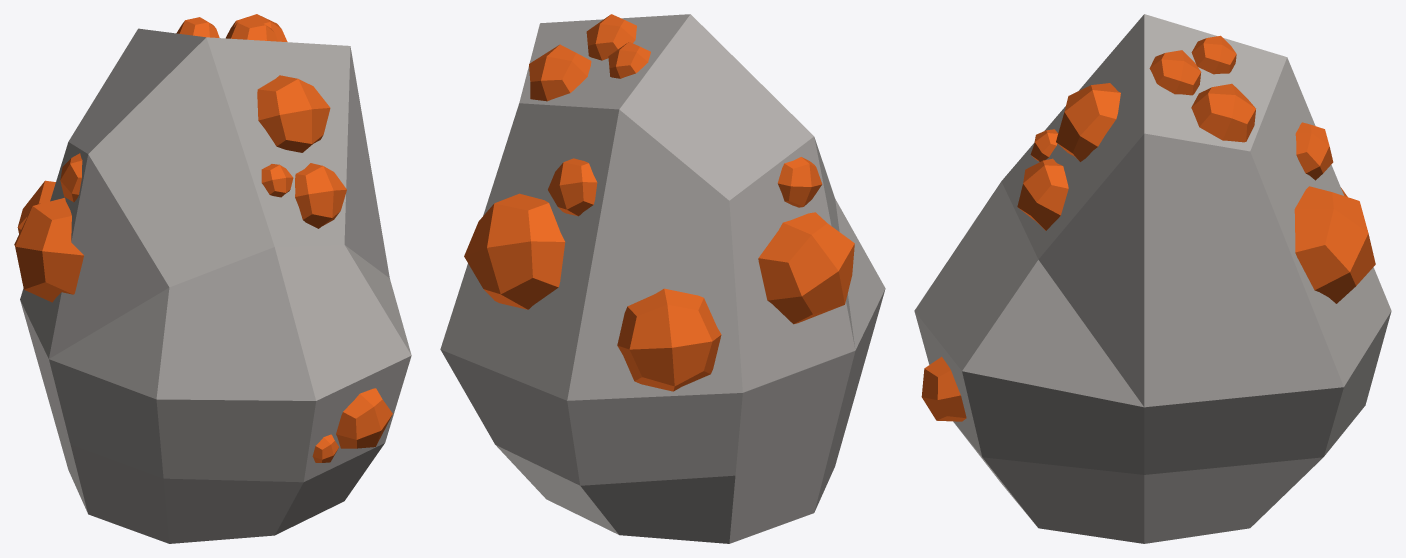
File: Crystal_3.fbx
The picture shows the model from 3 angles, left to right: view 1: azimuth 30°, elevation 25°; view 2: azimuth 150°, elevation 25°; view 3: azimuth 270°, elevation 25°; orthographic projection. The views are drawn at different scales.
Visible parts, largest first — view 1: Crystal_3; view 2: Crystal_3; view 3: Crystal_3.
Part boxes in pixels (x1,y1,x2,y2): Crystal_3: (14,14,411,543); Crystal_3: (440,14,885,543); Crystal_3: (914,14,1391,543).
Bounding box in the file's own units: 170 × 192 × 209.
